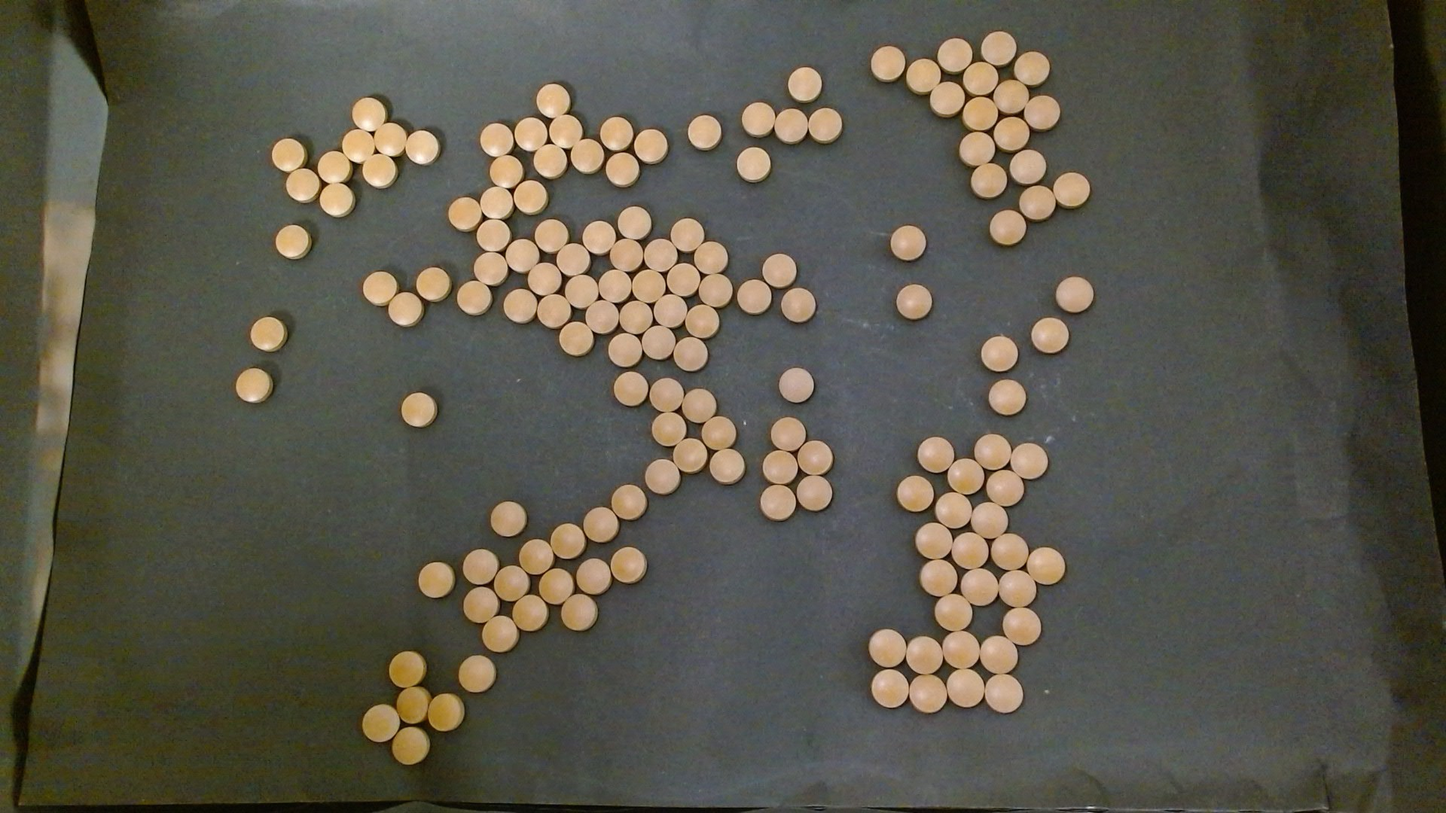Circle: (1054, 274, 1097, 315), (870, 667, 911, 710), (979, 333, 1021, 374), (361, 704, 401, 744), (935, 592, 974, 632), (457, 654, 496, 694), (868, 628, 907, 668), (914, 521, 953, 561), (918, 559, 958, 598), (390, 726, 429, 766), (988, 208, 1027, 247), (1030, 316, 1069, 355), (895, 474, 934, 513), (1009, 441, 1048, 480), (1002, 606, 1041, 645), (990, 532, 1029, 571), (941, 630, 980, 669), (249, 314, 289, 352), (427, 692, 465, 732), (987, 378, 1027, 416), (984, 674, 1022, 714), (909, 673, 947, 713), (273, 222, 312, 260), (1026, 546, 1065, 584), (951, 531, 990, 569), (935, 490, 974, 528), (1052, 170, 1091, 208), (416, 561, 455, 599), (388, 649, 426, 688), (998, 568, 1036, 607), (980, 635, 1018, 674), (959, 568, 998, 606), (398, 391, 438, 428), (233, 366, 273, 403), (947, 668, 984, 708), (889, 223, 927, 261), (777, 366, 815, 404), (895, 283, 933, 321), (916, 435, 954, 473), (970, 161, 1008, 199), (986, 469, 1024, 507), (560, 594, 598, 632), (905, 635, 942, 674), (971, 501, 1008, 540), (610, 545, 647, 583), (759, 484, 797, 521), (958, 130, 996, 167), (575, 558, 612, 596), (1012, 49, 1050, 86), (1018, 184, 1055, 221), (489, 500, 526, 537), (797, 475, 834, 512), (644, 458, 681, 495), (462, 548, 499, 585), (583, 506, 620, 543), (462, 586, 499, 623), (1023, 94, 1060, 131), (518, 538, 554, 576), (549, 522, 585, 560), (937, 36, 973, 74), (611, 484, 648, 520), (781, 287, 817, 324), (1009, 148, 1046, 184), (612, 370, 648, 407), (947, 457, 983, 494), (512, 595, 548, 632), (538, 568, 575, 604), (270, 136, 307, 172), (869, 44, 905, 81), (512, 178, 548, 215), (396, 685, 430, 724), (319, 181, 355, 217), (494, 565, 530, 601), (482, 614, 518, 650), (387, 291, 423, 327), (762, 252, 798, 288), (362, 270, 398, 306), (672, 437, 708, 473), (362, 152, 398, 188), (404, 129, 440, 165), (350, 96, 386, 132), (993, 116, 1029, 152), (535, 82, 571, 118), (456, 280, 492, 316), (981, 30, 1017, 66), (962, 95, 998, 131), (993, 78, 1029, 114), (930, 80, 966, 116), (770, 416, 807, 451), (740, 100, 775, 137), (787, 65, 822, 102), (634, 127, 669, 164), (709, 449, 745, 484), (736, 145, 771, 181), (797, 439, 833, 474), (650, 411, 686, 446), (285, 167, 321, 202), (681, 388, 717, 423), (673, 336, 708, 372), (599, 115, 634, 151), (532, 142, 567, 178), (961, 60, 996, 96), (652, 292, 687, 328), (807, 106, 841, 143), (974, 433, 1011, 467), (773, 107, 807, 144), (570, 137, 604, 174), (317, 149, 352, 184), (558, 321, 593, 356), (473, 251, 508, 286), (476, 217, 511, 252), (581, 219, 616, 254), (479, 185, 514, 220), (534, 218, 569, 253), (608, 331, 642, 367), (687, 114, 721, 150), (701, 415, 737, 449), (416, 266, 450, 302), (737, 279, 771, 315), (605, 151, 639, 187), (341, 127, 375, 163), (529, 260, 563, 296), (649, 376, 683, 411), (479, 122, 513, 157), (373, 122, 407, 157), (447, 196, 481, 231), (503, 288, 537, 323), (514, 117, 548, 152), (598, 268, 632, 303), (698, 273, 732, 308), (536, 294, 571, 328), (670, 217, 704, 252), (694, 240, 728, 275), (761, 450, 797, 483), (685, 303, 718, 339), (489, 153, 523, 187), (617, 205, 651, 239), (631, 269, 665, 303), (556, 242, 590, 276), (905, 58, 938, 93), (618, 299, 651, 334), (565, 274, 598, 309), (585, 299, 618, 333), (641, 324, 674, 358), (643, 238, 677, 271), (505, 239, 538, 273), (609, 237, 642, 271), (667, 262, 699, 295), (550, 114, 579, 146)
